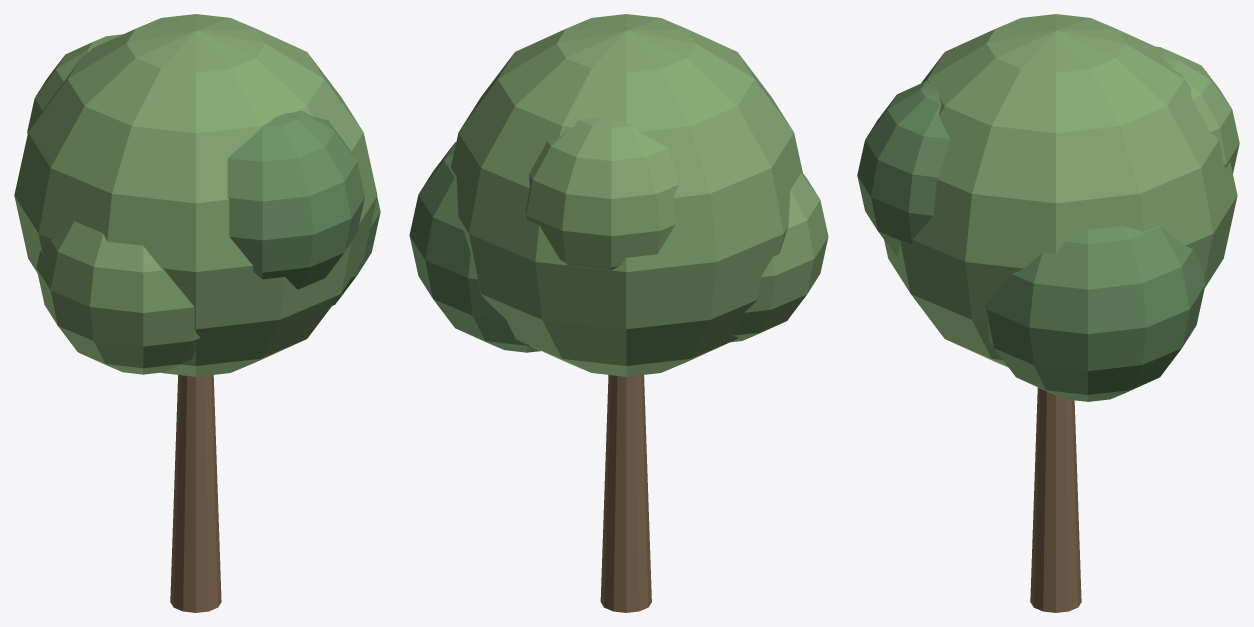
File: planting-tree-deciduous.glb
The picture shows the model from 3 angles, left to right: view 1: azimuth 30°, elevation 25°; view 2: azimuth 150°, elevation 25°; view 3: azimuth 270°, elevation 25°; orthographic projection.
Visible parts, largest first — view 1: Canopy_0, Canopy_3, Canopy_2, Trunk, Canopy_4, Canopy_1; view 2: Canopy_0, Canopy_4, Trunk, Canopy_1, Canopy_2; view 3: Canopy_0, Canopy_1, Canopy_3, Trunk, Canopy_4.
Part boxes in pixels (x1,y1,x2,y2): Canopy_0: [14, 14, 377, 376]; Canopy_3: [227, 110, 364, 289]; Canopy_2: [36, 221, 200, 374]; Trunk: [170, 375, 221, 612]; Canopy_4: [27, 34, 122, 133]; Canopy_1: [332, 197, 380, 305]; Canopy_0: [451, 14, 803, 376]; Canopy_4: [525, 117, 678, 270]; Trunk: [600, 375, 651, 612]; Canopy_1: [409, 142, 540, 352]; Canopy_2: [731, 173, 828, 342]; Canopy_0: [884, 14, 1237, 367]; Canopy_1: [985, 225, 1205, 401]; Canopy_3: [857, 81, 949, 256]; Trunk: [1030, 387, 1081, 612]; Canopy_4: [1156, 46, 1239, 173].
Bounding box in the file's own units: 1.9 × 2.95 × 1.79.
